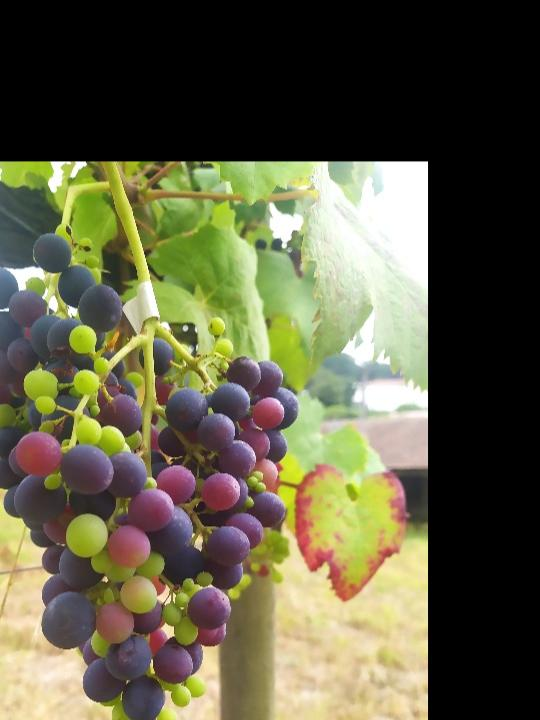grape: (0, 220, 303, 720)
